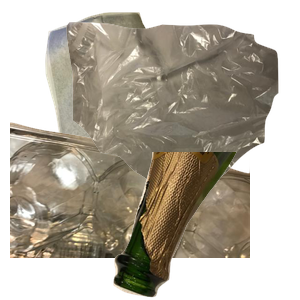glass: (111, 152, 300, 300)
paper: (43, 10, 221, 185)
plastic: (10, 120, 250, 300)
trash: (64, 20, 300, 200)
